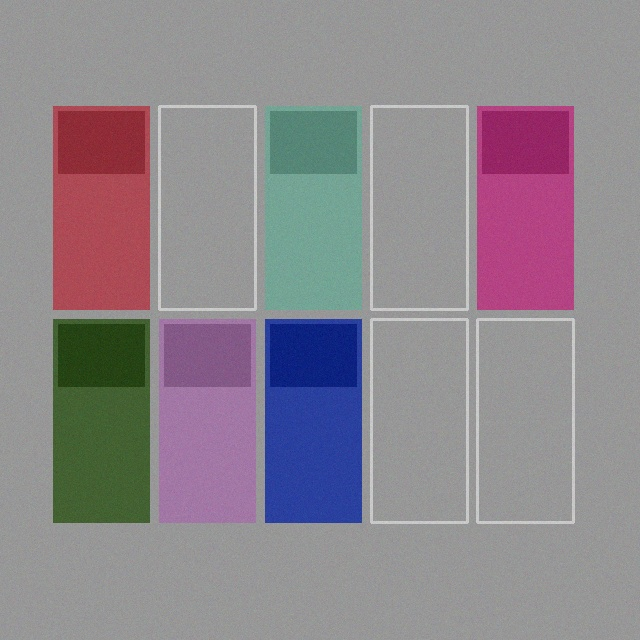space-empty: (159, 106, 255, 309), (371, 106, 467, 309), (371, 319, 467, 522), (477, 319, 573, 522)
space-occupied: (53, 106, 149, 309), (265, 106, 361, 309), (477, 106, 573, 309), (53, 319, 149, 522), (159, 319, 255, 522), (265, 319, 361, 522)
